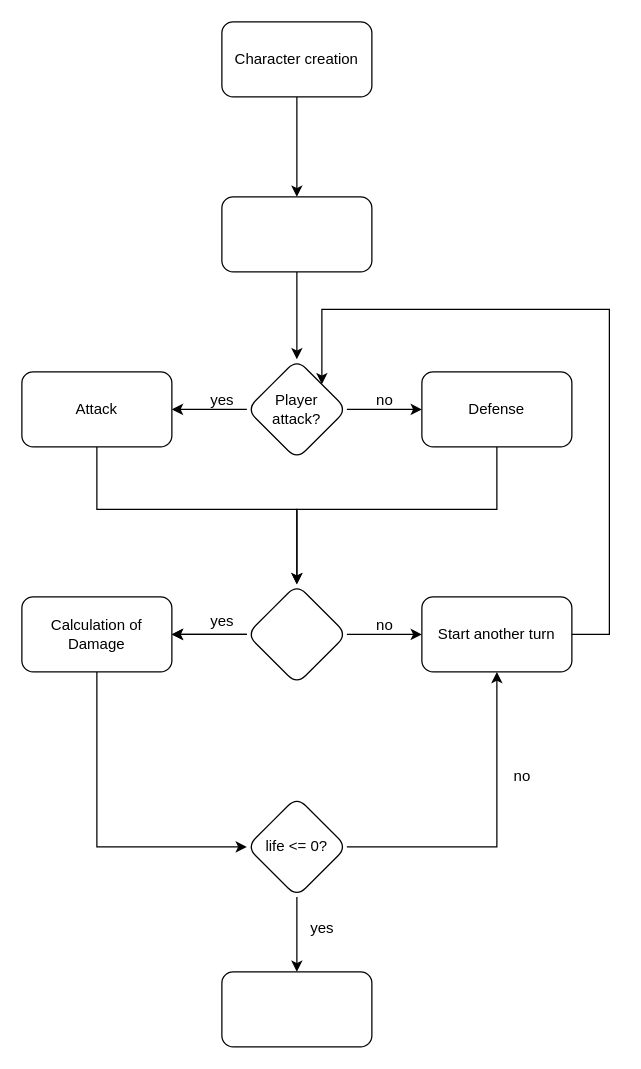
This 641x1069 diagram has some shape labels left out. The shapes that lost their labels are listed below. From the top down, each one's centre as x and y in pixels, then its label:
At (296,234): "Game start".
At (296,633): "Attack > Defense".
At (296,1009): "Game Over".
